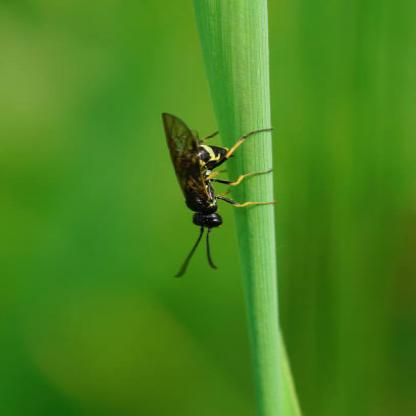sawfly: (155, 108, 294, 281)
